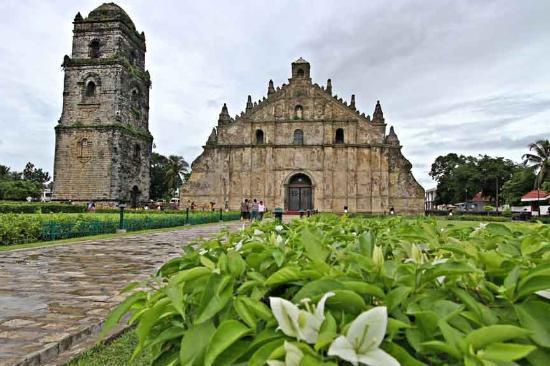paoay_church_paoay_ilocos_norte: (47, 1, 428, 223)
